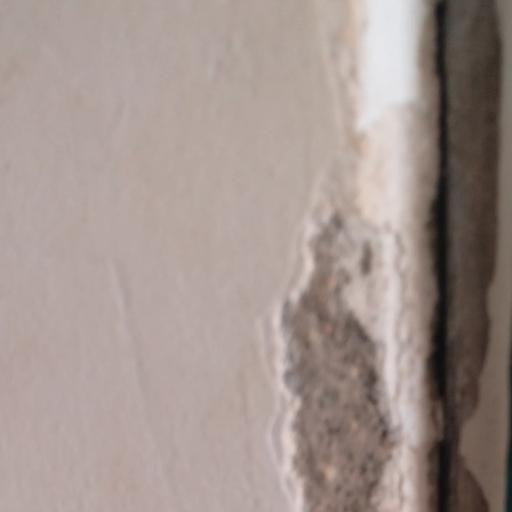spalling: (235, 0, 512, 512)
